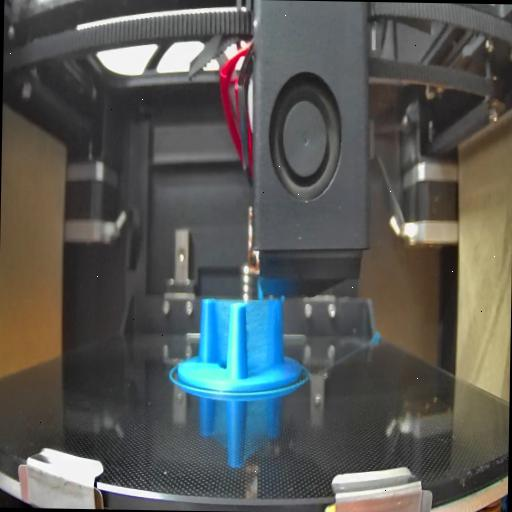stringing: (245, 298, 278, 378), (208, 297, 232, 373)
